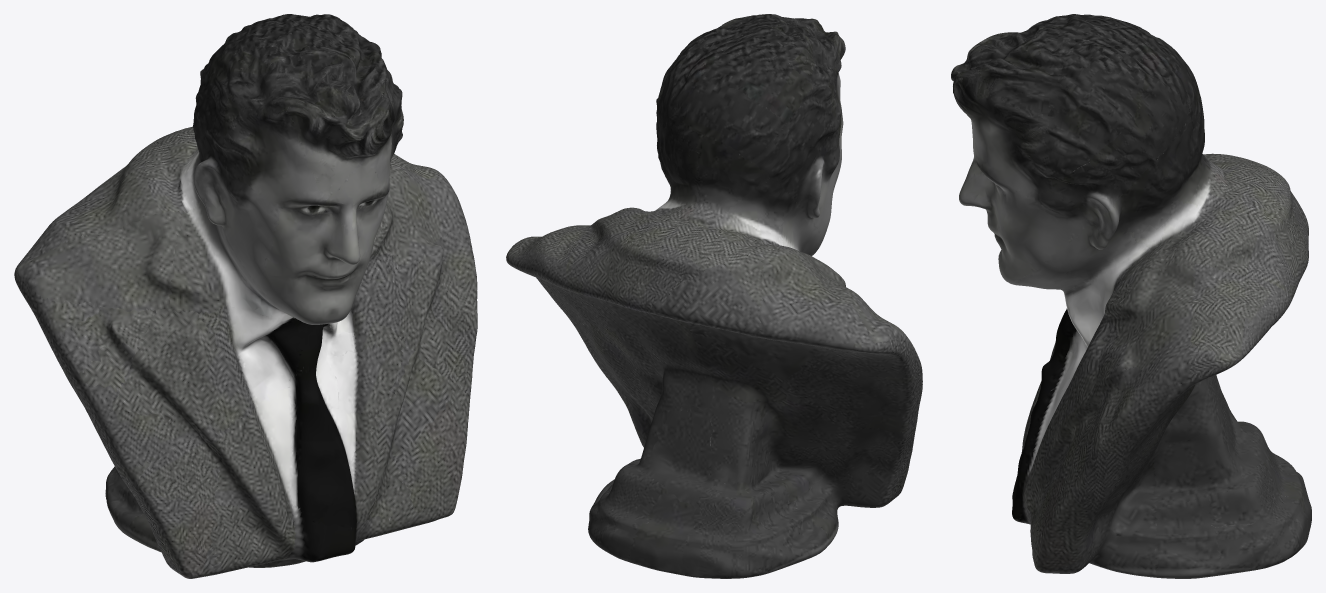
File: Meshy_AI_Intense_Classic_Portr_1023154959_texture (1).glb
3 renders of one model, left to right at view 1: azimuth 30°, elevation 25°; view 2: azimuth 150°, elevation 25°; view 3: azimuth 270°, elevation 25°, orthographic. The views are drawn at different scales.
Size of the model in its own units: 1.62 by 1.9 by 1.23.
Materials: 1 (1 with a texture image).
